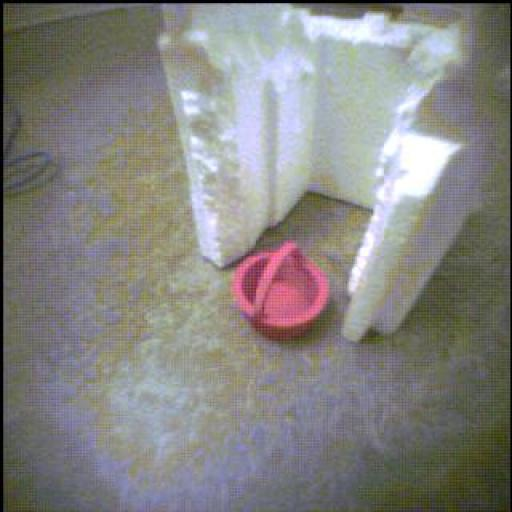Bucket: (233, 243, 331, 340)
